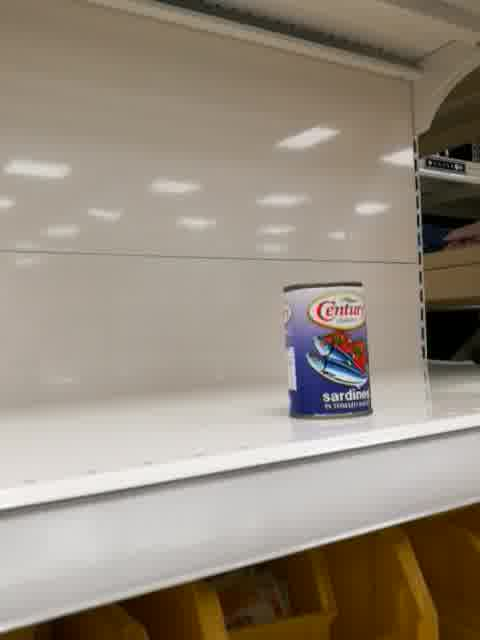sardine: (281, 279, 375, 422)
